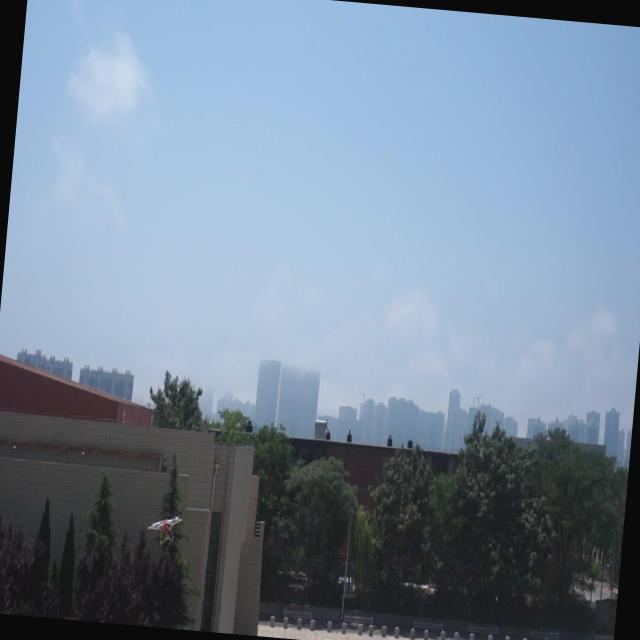drone: (144, 510, 182, 546)
